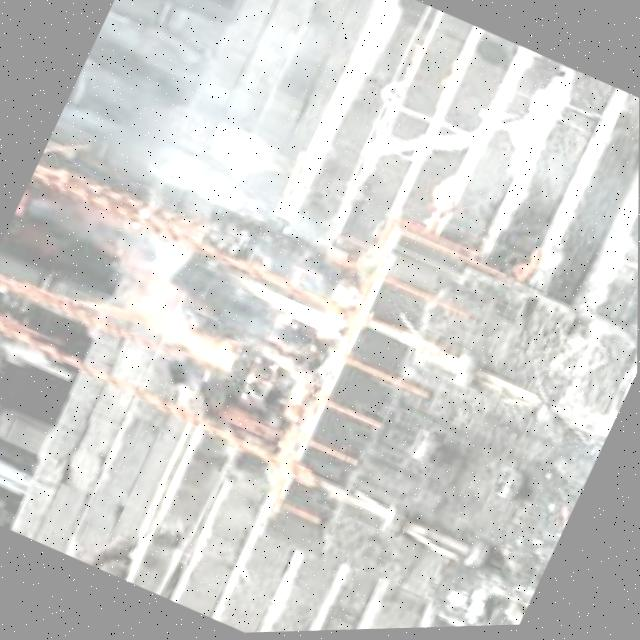Fire: (68, 190, 361, 425)
